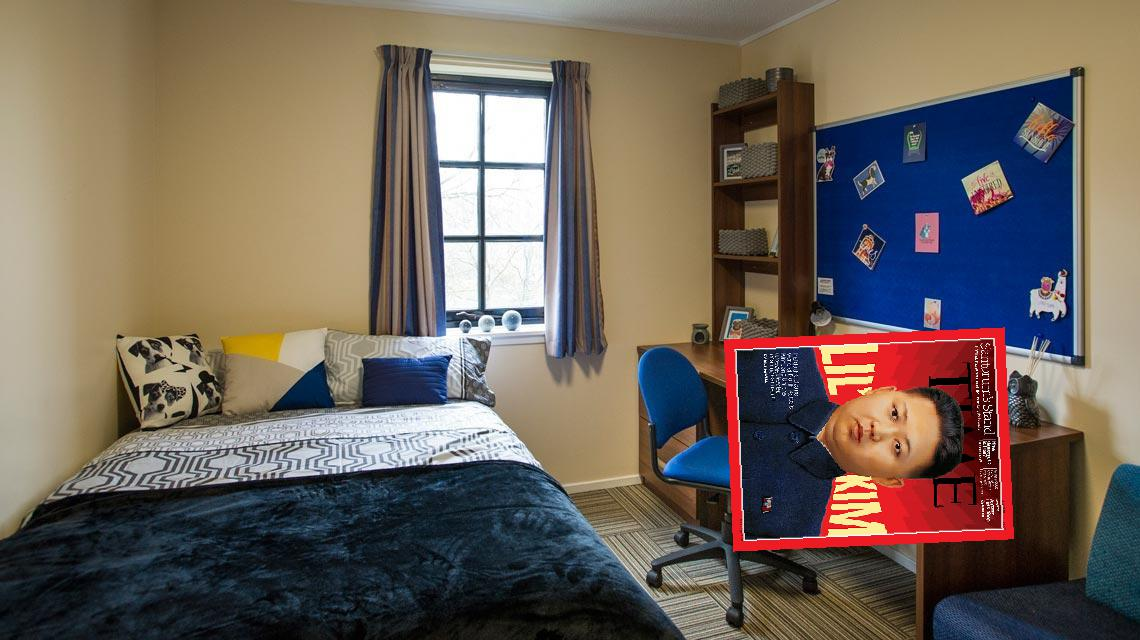times: (726, 324, 1015, 563)
